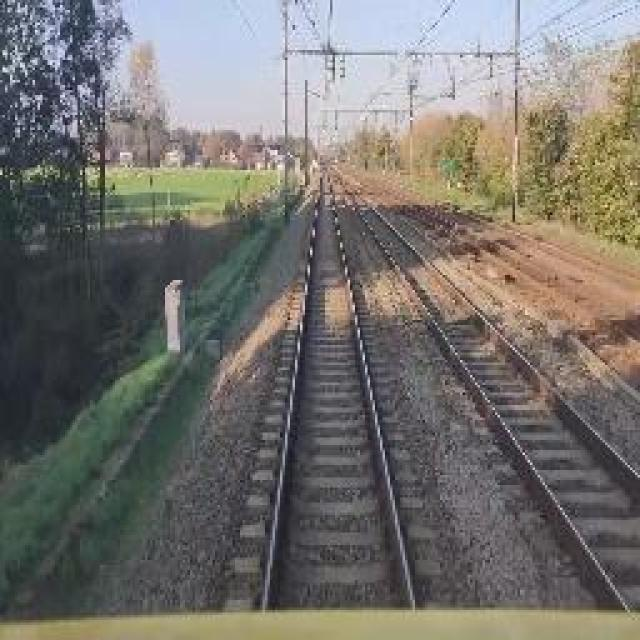rail: (328, 167, 640, 610), (213, 171, 439, 613)
